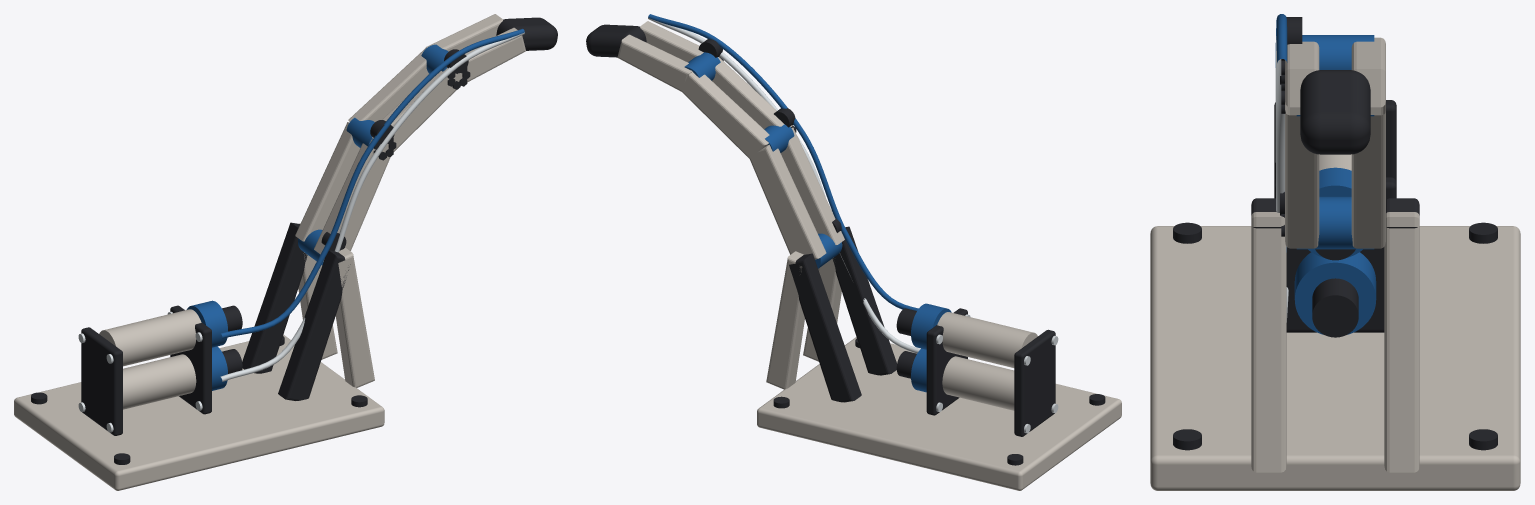
File: anatomy-14.glb
3 renders of one model, left to right at view 1: azimuth 30°, elevation 25°; view 2: azimuth 150°, elevation 25°; view 3: azimuth 270°, elevation 25°, orthographic. The views are drawn at different scales.
Parts seen in each view (by area): view 1: plate, bracket, links, motors, motor-rack, cords, drums, pins, tip, pulley; view 2: plate, links, bracket, motors, motor-rack, cords, drums, pins, tip, pulley; view 3: plate, bracket, links, drums, tip, pins, motor-rack, cords, pulley, motors.
Boxes of the visible parts, x1=… form: plate: x1=14, y1=334, x2=384, y2=490; bracket: x1=242, y1=222, x2=374, y2=400; links: x1=295, y1=14, x2=525, y2=254; motors: x1=99, y1=309, x2=201, y2=409; motor-rack: x1=78, y1=305, x2=211, y2=435; cords: x1=220, y1=28, x2=524, y2=381; drums: x1=186, y1=300, x2=242, y2=390; pins: x1=298, y1=44, x2=470, y2=265; tip: x1=496, y1=17, x2=557, y2=50; pulley: x1=321, y1=49, x2=468, y2=250; plate: x1=757, y1=337, x2=1121, y2=490; links: x1=617, y1=21, x2=844, y2=259; bracket: x1=766, y1=226, x2=896, y2=402; motors: x1=937, y1=312, x2=1037, y2=410; motor-rack: x1=926, y1=308, x2=1058, y2=436; cords: x1=648, y1=14, x2=920, y2=353; drums: x1=896, y1=303, x2=951, y2=392; pins: x1=684, y1=52, x2=842, y2=268; tip: x1=586, y1=24, x2=646, y2=57; pulley: x1=698, y1=39, x2=841, y2=232; plate: x1=1150, y1=222, x2=1520, y2=490; bracket: x1=1251, y1=198, x2=1419, y2=472; links: x1=1285, y1=37, x2=1385, y2=248; drums: x1=1294, y1=167, x2=1376, y2=337; tip: x1=1300, y1=70, x2=1370, y2=154; pins: x1=1281, y1=35, x2=1374, y2=249; motor-rack: x1=1274, y1=100, x2=1396, y2=332; cords: x1=1275, y1=14, x2=1288, y2=322; pulley: x1=1280, y1=17, x2=1302, y2=215; motors: x1=1319, y1=154, x2=1351, y2=170.
Bounding box in the file's own units: 2.71 × 1.75 × 1.
